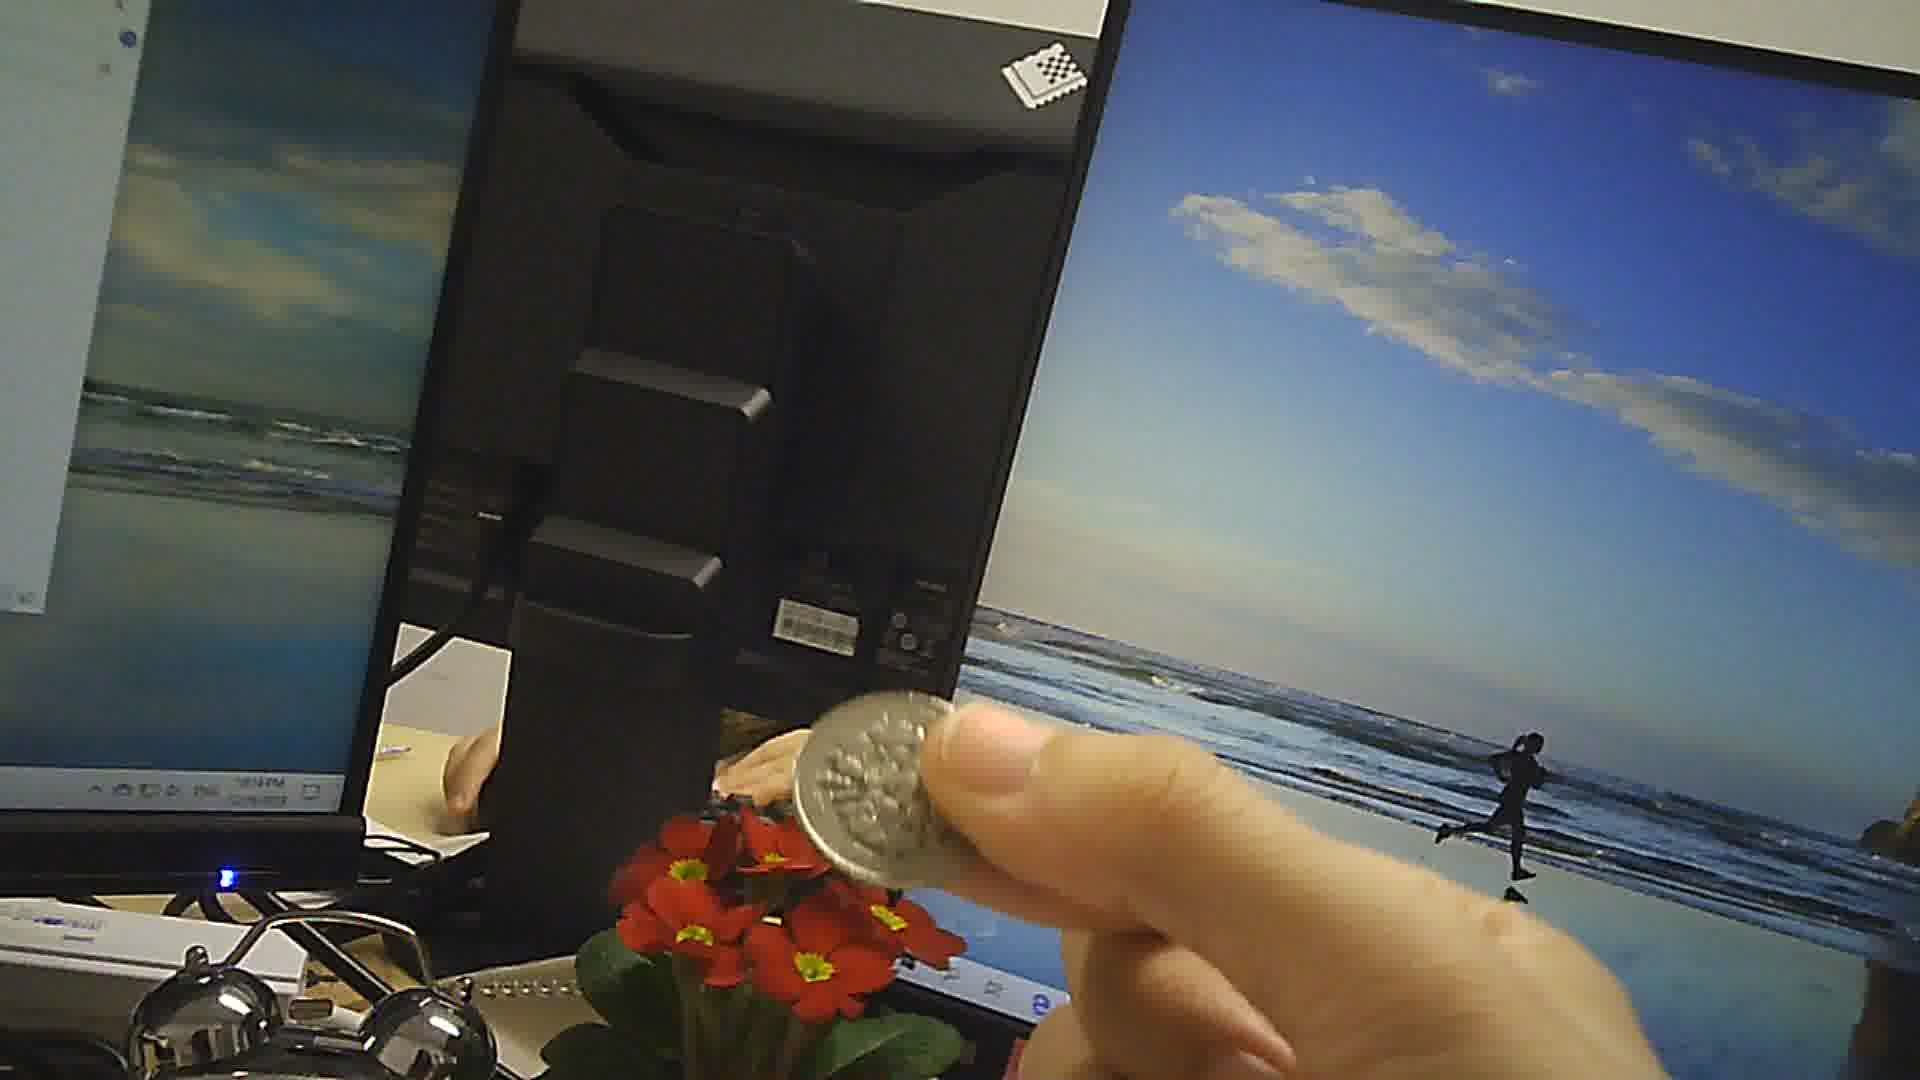100 Yen: (783, 684, 971, 893)
